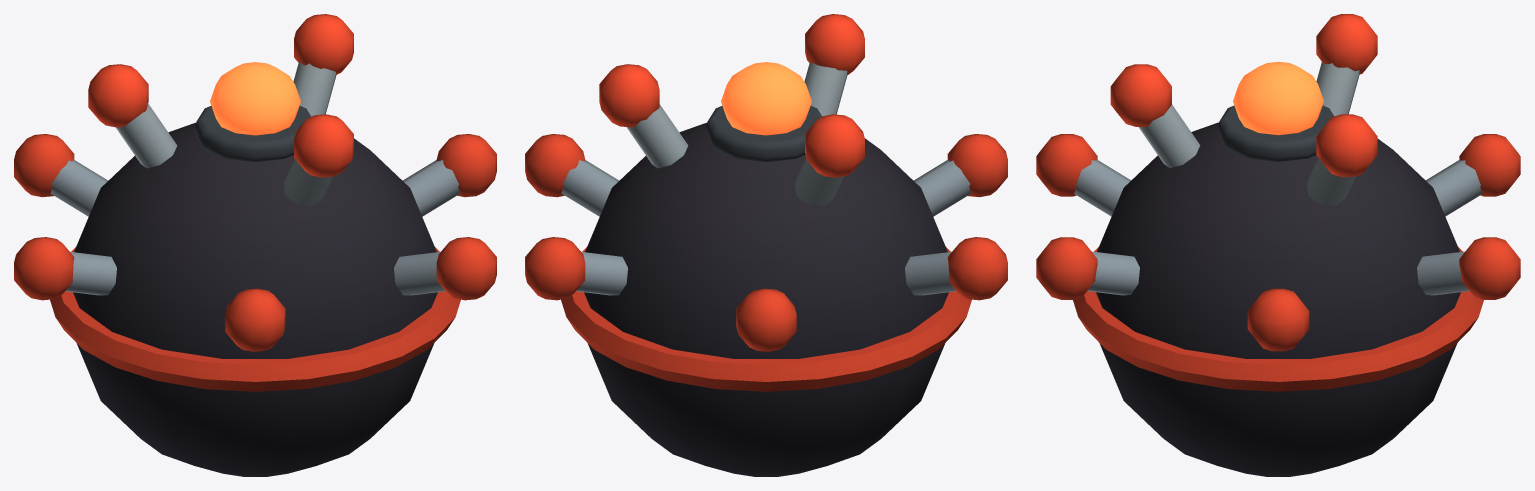
The model's file is mine.glb.
The picture shows the model from 3 angles, left to right: view 1: azimuth 30°, elevation 25°; view 2: azimuth 150°, elevation 25°; view 3: azimuth 270°, elevation 25°; orthographic projection.
Parts seen in each view (by area): view 1: mine Ashen charcoal, mine Ember paint, mine Steel, mine Ember glow, mine Gunmetal; view 2: mine Ashen charcoal, mine Ember paint, mine Steel, mine Ember glow, mine Gunmetal; view 3: mine Ashen charcoal, mine Ember paint, mine Steel, mine Ember glow, mine Gunmetal.
Boxes of the visible parts, <box> form: mine Ashen charcoal: <box>73,122,437,476</box>; mine Ember paint: <box>14,14,496,391</box>; mine Steel: <box>50,62,460,295</box>; mine Ember glow: <box>210,62,300,135</box>; mine Gunmetal: <box>194,106,311,161</box>; mine Ashen charcoal: <box>584,122,948,476</box>; mine Ember paint: <box>525,14,1007,391</box>; mine Steel: <box>561,62,971,295</box>; mine Ember glow: <box>721,62,811,135</box>; mine Gunmetal: <box>705,106,821,161</box>; mine Ashen charcoal: <box>1096,122,1460,476</box>; mine Ember paint: <box>1036,14,1520,391</box>; mine Steel: <box>1074,62,1482,295</box>; mine Ember glow: <box>1233,61,1323,135</box>; mine Gunmetal: <box>1217,105,1334,161</box>.
Bounding box in the file's own units: 1.44 × 1.14 × 1.27.
5 materials, 4 textured.
